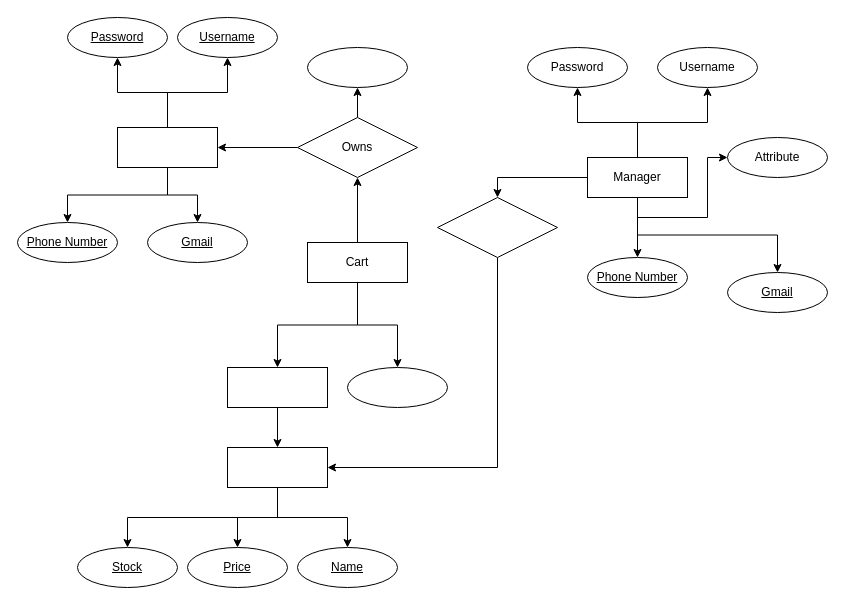
This 845x605 diagram has some shape labels left out. Here are the shapes that lost their labels. From the top down, the box of each, then its label:
(306, 46, 408, 88): Payment Method
(116, 126, 218, 168): User
(436, 196, 558, 258): Manages
(226, 366, 328, 408): Items List
(346, 366, 448, 408): Total Price
(226, 446, 328, 488): Item
